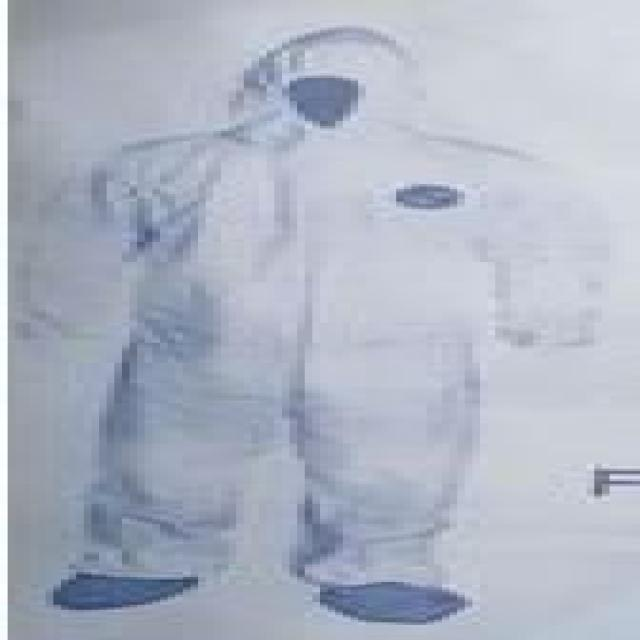Coverall: (22, 2, 617, 640)
